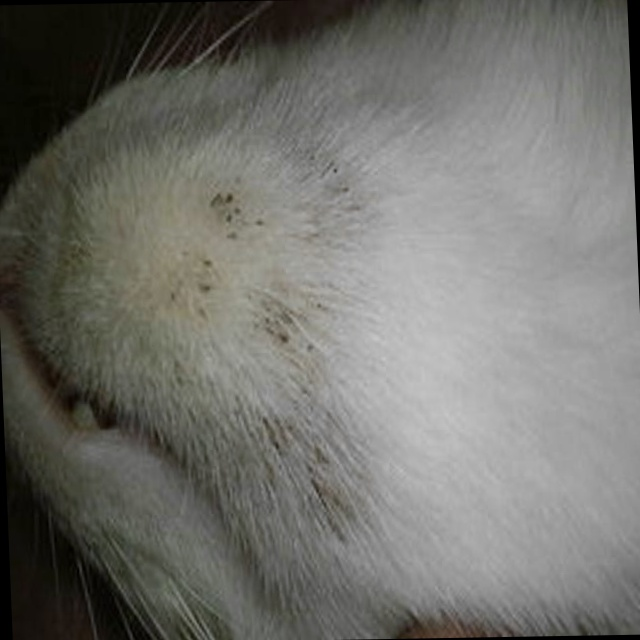acne: (153, 184, 332, 353)
